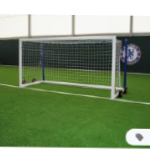goals: (16, 35, 126, 103)
